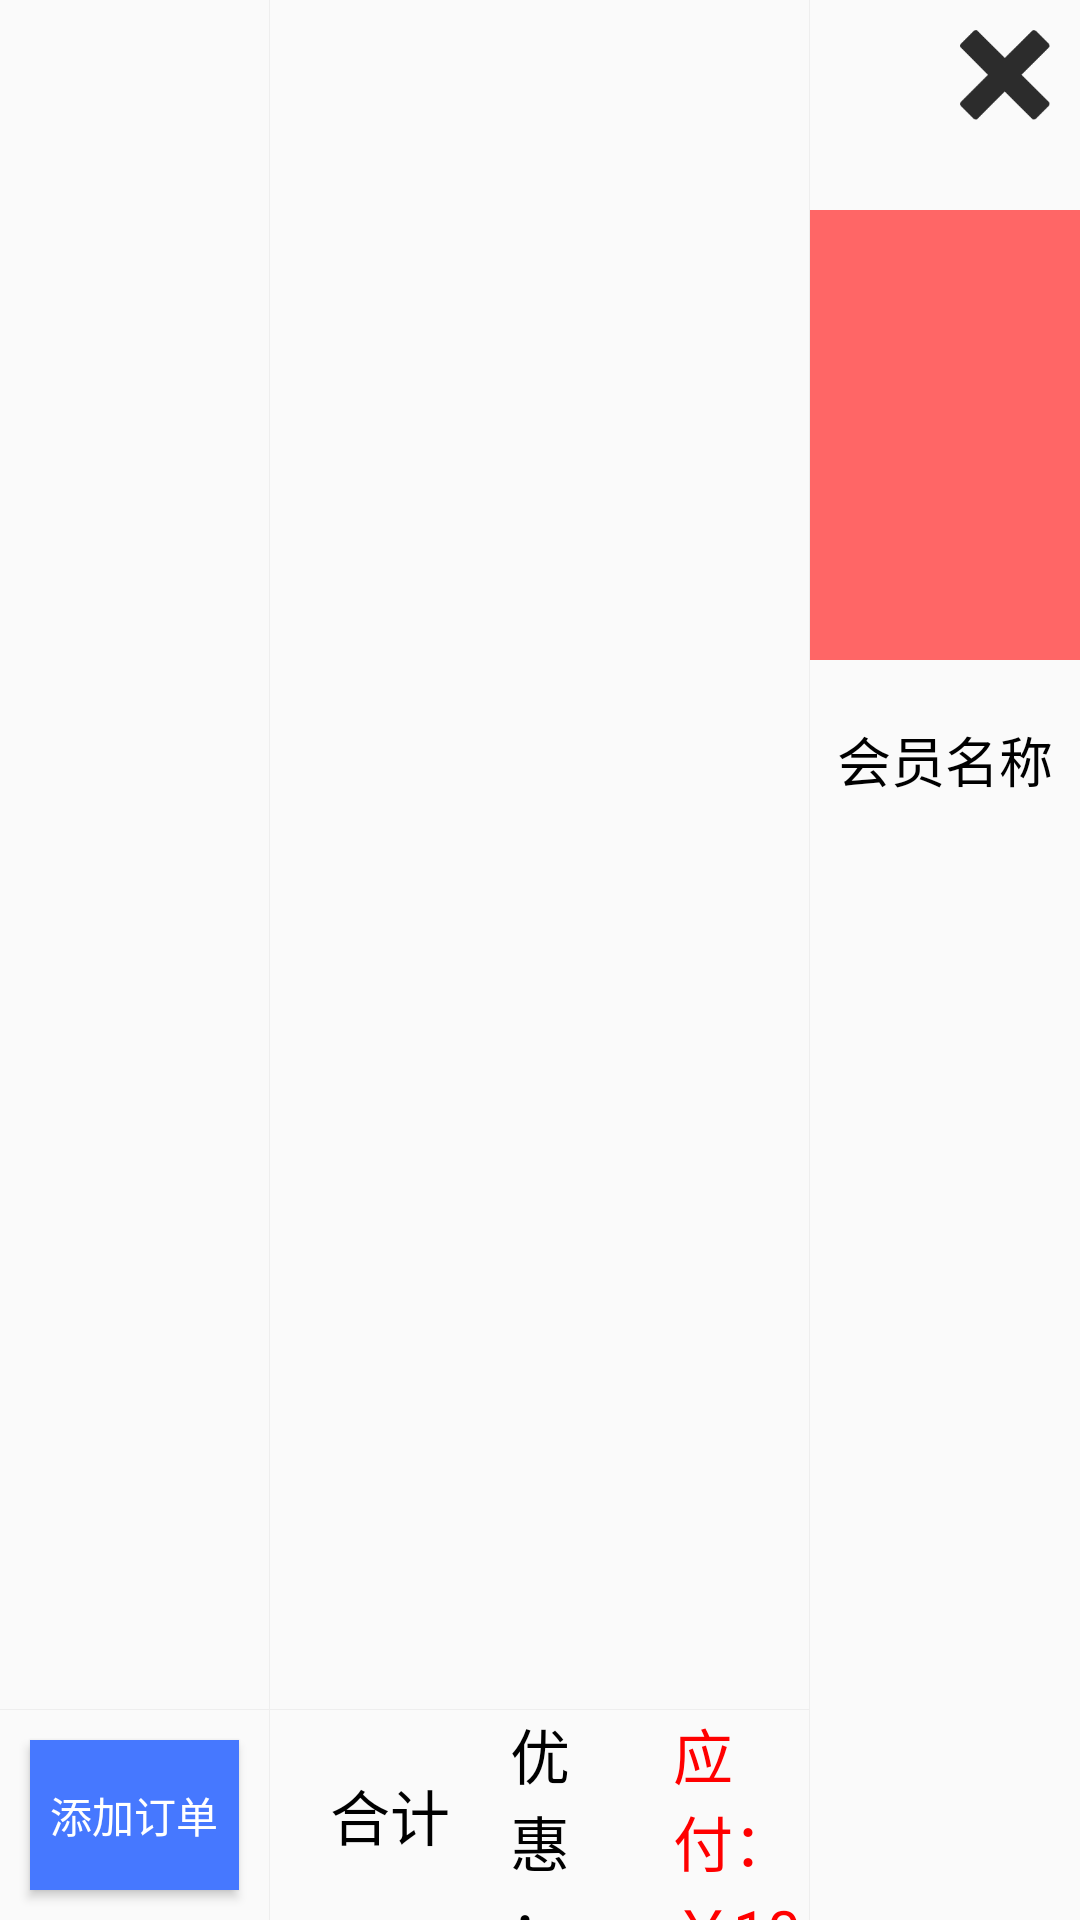

Icons on this 1080×1920 Android screen, each with its box as (x1, y1, x2, y2):
close: (960, 30, 1050, 120)
